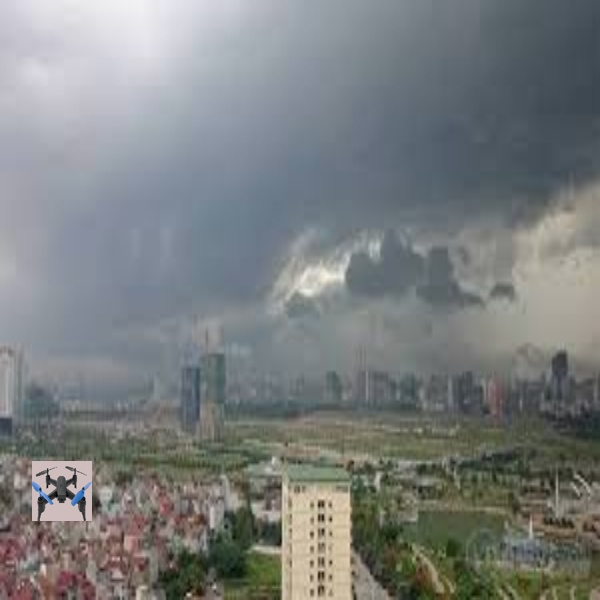drone: (32, 459, 91, 519)
